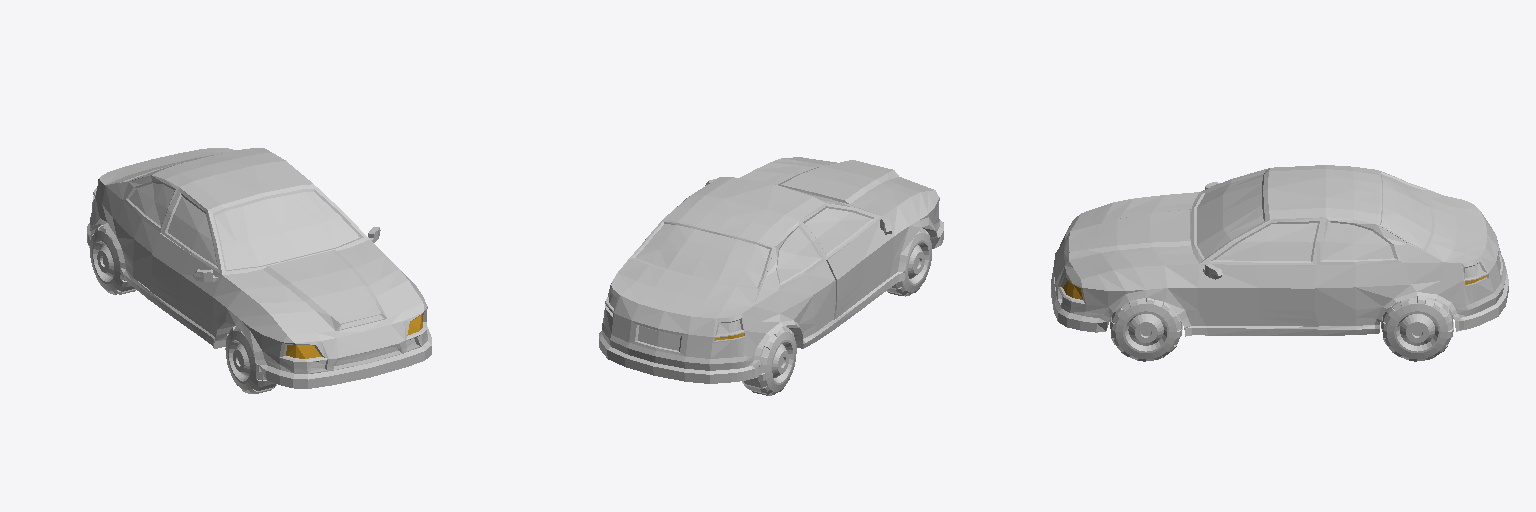
Rendered from Vehicle_Sports.obj.
The picture shows the model from 3 angles: view 1: azimuth 30°, elevation 25°; view 2: azimuth 150°, elevation 25°; view 3: azimuth 270°, elevation 25°; orthographic projection.
Parts seen in each view (by area): view 1: Sports_Cube.009, FrontWheel_R_Cube.001, BackWheels_Cube.004; view 2: Sports_Cube.009, BackWheels_Cube.004, FrontWheel_R_Cube.001; view 3: Sports_Cube.009, BackWheels_Cube.004, FrontWheel_L_Cube.002.
Boxes of the visible parts, box(x1,y1,x2,y2) form: Sports_Cube.009: box(87, 148, 431, 388); FrontWheel_R_Cube.001: box(225, 325, 276, 393); BackWheels_Cube.004: box(90, 225, 135, 294); Sports_Cube.009: box(599, 157, 943, 383); BackWheels_Cube.004: box(742, 326, 796, 395); FrontWheel_R_Cube.001: box(887, 228, 931, 296); Sports_Cube.009: box(1051, 165, 1508, 336); BackWheels_Cube.004: box(1381, 296, 1453, 361); FrontWheel_L_Cube.002: box(1110, 297, 1182, 361).
Size of the model in its own units: 2.67 by 1.86 by 5.66.